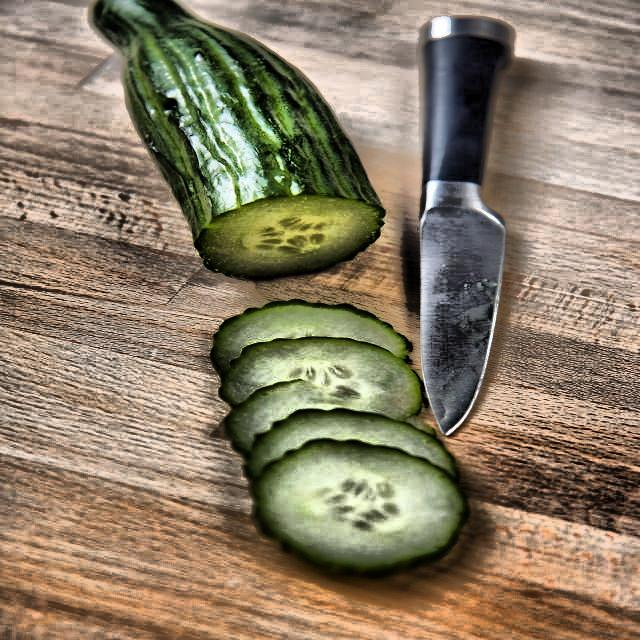knife: (400, 15, 520, 444)
